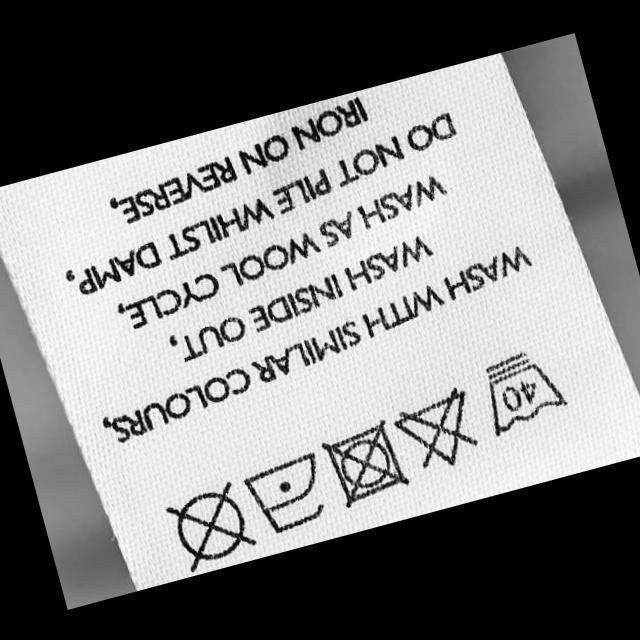40C: (468, 336, 576, 440)
DN_bleach: (384, 382, 484, 481)
DN_dry_clean: (158, 474, 260, 576)
DN_tumble_dry: (315, 414, 414, 511)
iron_low: (238, 448, 334, 542)
